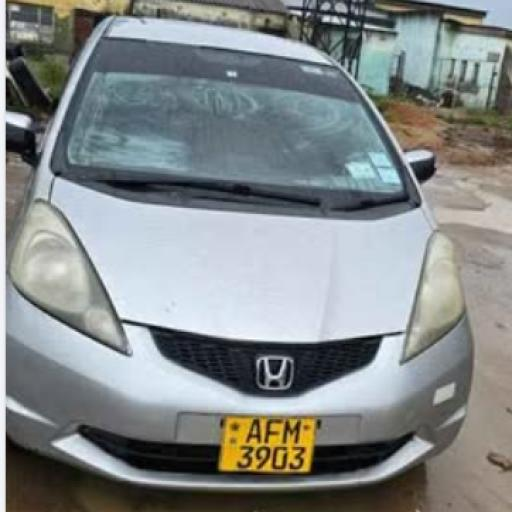number-plates: (223, 414, 310, 472)
